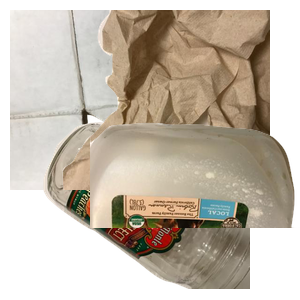cardboard: (10, 10, 250, 190)
glass: (41, 120, 281, 300)
plastic: (90, 120, 300, 300)
trash: (60, 10, 300, 190)
